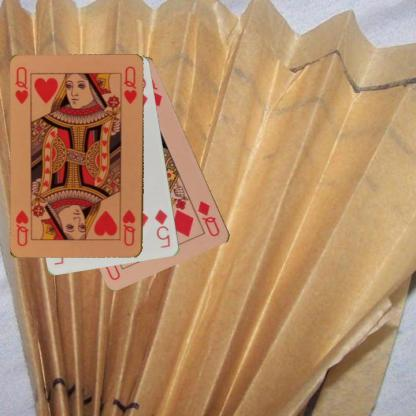5d: (152, 207, 172, 250)
Qd: (196, 198, 222, 238)
Qh: (120, 207, 138, 248), (12, 64, 30, 105)
